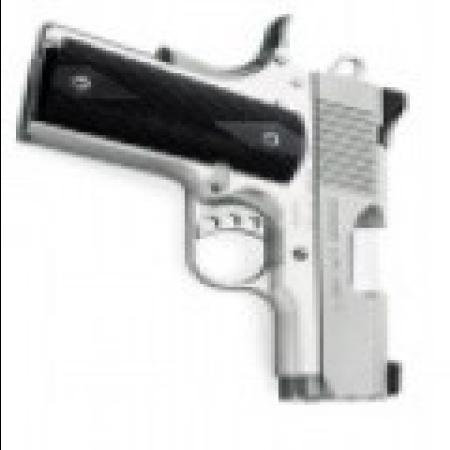Pistol: (22, 28, 420, 397)
